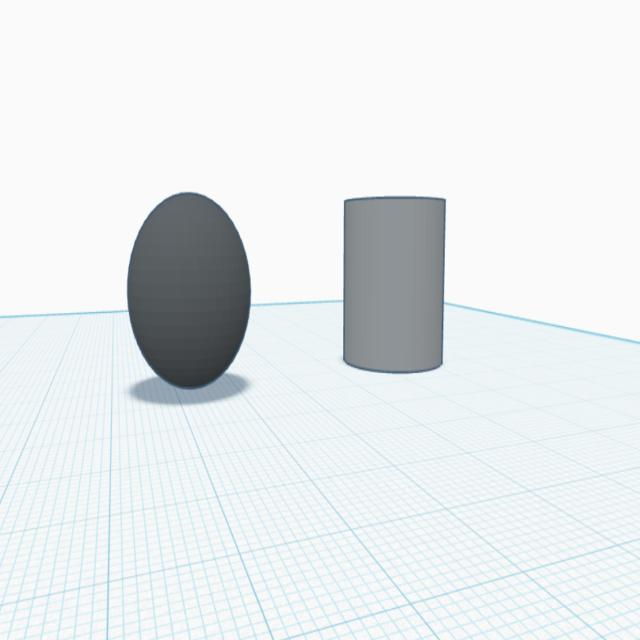sphere: (123, 183, 255, 394)
